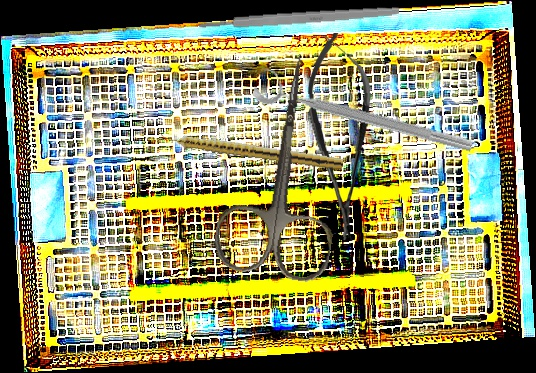Fixation Ring: (250, 63, 479, 159)
Handpiece: (159, 129, 345, 171)
Iris Scissors: (210, 48, 360, 285)
Micro Scissor: (305, 31, 376, 242)
Scalpel Handle: (198, 5, 400, 31)
